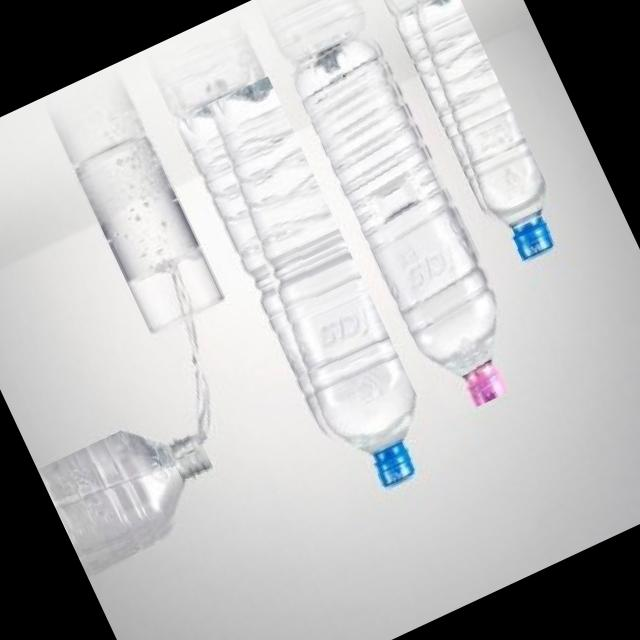plastic bottle: (172, 76, 446, 506), (284, 24, 536, 418), (388, 0, 572, 272), (36, 401, 229, 571)
